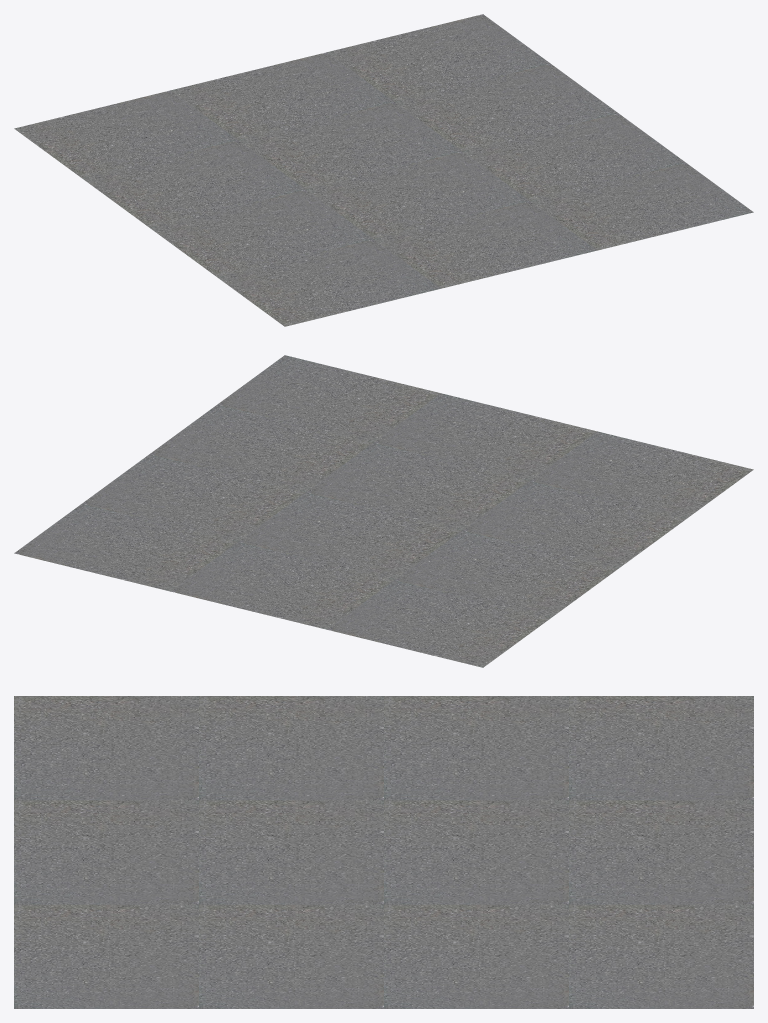
The model's file is floor.obj.
The picture shows the model from 3 angles, top to bottom: view 1: azimuth 30°, elevation 25°; view 2: azimuth 150°, elevation 25°; view 3: azimuth 270°, elevation 25°; orthographic projection. The views are drawn at different scales.
Parts seen in each view (by area): view 1: Plane.062_Plane.080, Plane.053_Plane.071, Plane.059_Plane.077, Plane.056_Plane.074, Plane.060_Plane.078, Plane.057_Plane.075, Plane.058_Plane.076, Plane.055_Plane.073, Plane.063_Plane.081, Plane.054_Plane.072, Plane.061_Plane.079, Plane_Plane.054; view 2: Plane.062_Plane.080, Plane.053_Plane.071, Plane.059_Plane.077, Plane.056_Plane.074, Plane.058_Plane.076, Plane.055_Plane.073, Plane.060_Plane.078, Plane.057_Plane.075, Plane.061_Plane.079, Plane_Plane.054, Plane.063_Plane.081, Plane.054_Plane.072; view 3: Plane.063_Plane.081, Plane.062_Plane.080, Plane.061_Plane.079, Plane.060_Plane.078, Plane.059_Plane.077, Plane.058_Plane.076, Plane.057_Plane.075, Plane.056_Plane.074, Plane.055_Plane.073, Plane.054_Plane.072, Plane.053_Plane.071, Plane_Plane.054.
Boxes of the visible parts, <box> form: Plane.062_Plane.080: <box>374,201,597,288</box>; Plane.053_Plane.071: <box>170,52,393,139</box>; Plane.059_Plane.077: <box>306,151,529,238</box>; Plane.056_Plane.074: <box>238,102,461,189</box>; Plane.060_Plane.078: <box>462,113,685,200</box>; Plane.057_Plane.075: <box>82,140,305,227</box>; Plane.058_Plane.076: <box>150,189,372,277</box>; Plane.055_Plane.073: <box>395,63,617,151</box>; Plane.063_Plane.081: <box>217,239,440,326</box>; Plane.054_Plane.072: <box>327,14,550,101</box>; Plane.061_Plane.079: <box>530,163,753,250</box>; Plane_Plane.054: <box>14,90,237,177</box>; Plane.062_Plane.080: <box>374,393,597,480</box>; Plane.053_Plane.071: <box>170,542,393,629</box>; Plane.059_Plane.077: <box>306,443,529,530</box>; Plane.056_Plane.074: <box>238,492,461,579</box>; Plane.058_Plane.076: <box>462,481,685,568</box>; Plane.055_Plane.073: <box>82,454,305,541</box>; Plane.060_Plane.078: <box>150,404,372,492</box>; Plane.057_Plane.075: <box>395,530,617,618</box>; Plane.061_Plane.079: <box>217,355,440,442</box>; Plane_Plane.054: <box>327,580,550,667</box>; Plane.063_Plane.081: <box>530,431,753,518</box>; Plane.054_Plane.072: <box>14,504,237,591</box>; Plane.063_Plane.081: <box>14,696,198,800</box>; Plane.062_Plane.080: <box>14,800,198,904</box>; Plane.061_Plane.079: <box>14,904,198,1008</box>; Plane.060_Plane.078: <box>199,904,383,1008</box>; Plane.059_Plane.077: <box>199,800,383,904</box>; Plane.058_Plane.076: <box>199,696,383,800</box>; Plane.057_Plane.075: <box>384,696,568,800</box>; Plane.056_Plane.074: <box>384,800,568,904</box>; Plane.055_Plane.073: <box>384,904,568,1008</box>; Plane.054_Plane.072: <box>569,904,753,1008</box>; Plane.053_Plane.071: <box>569,800,753,904</box>; Plane_Plane.054: <box>569,696,753,800</box>.
Bounding box in the file's own units: 2400 × 0 × 2400.
Materials: 1 (1 with a texture image).
